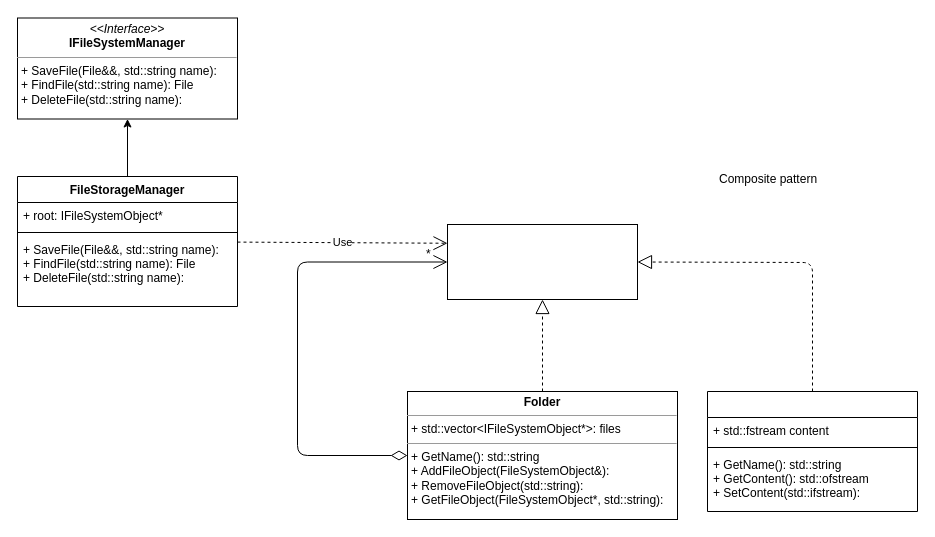
The diagram is 935 pixels wide and 537 high, and some of its shapes have lost their labels. The box of each missing label's shape, as (x1, y1, x2, y2) in pixels:
<<Interface>> IFileSystemObject + GetName(): std::string: (446, 224, 638, 300)
File: (706, 390, 918, 512)
